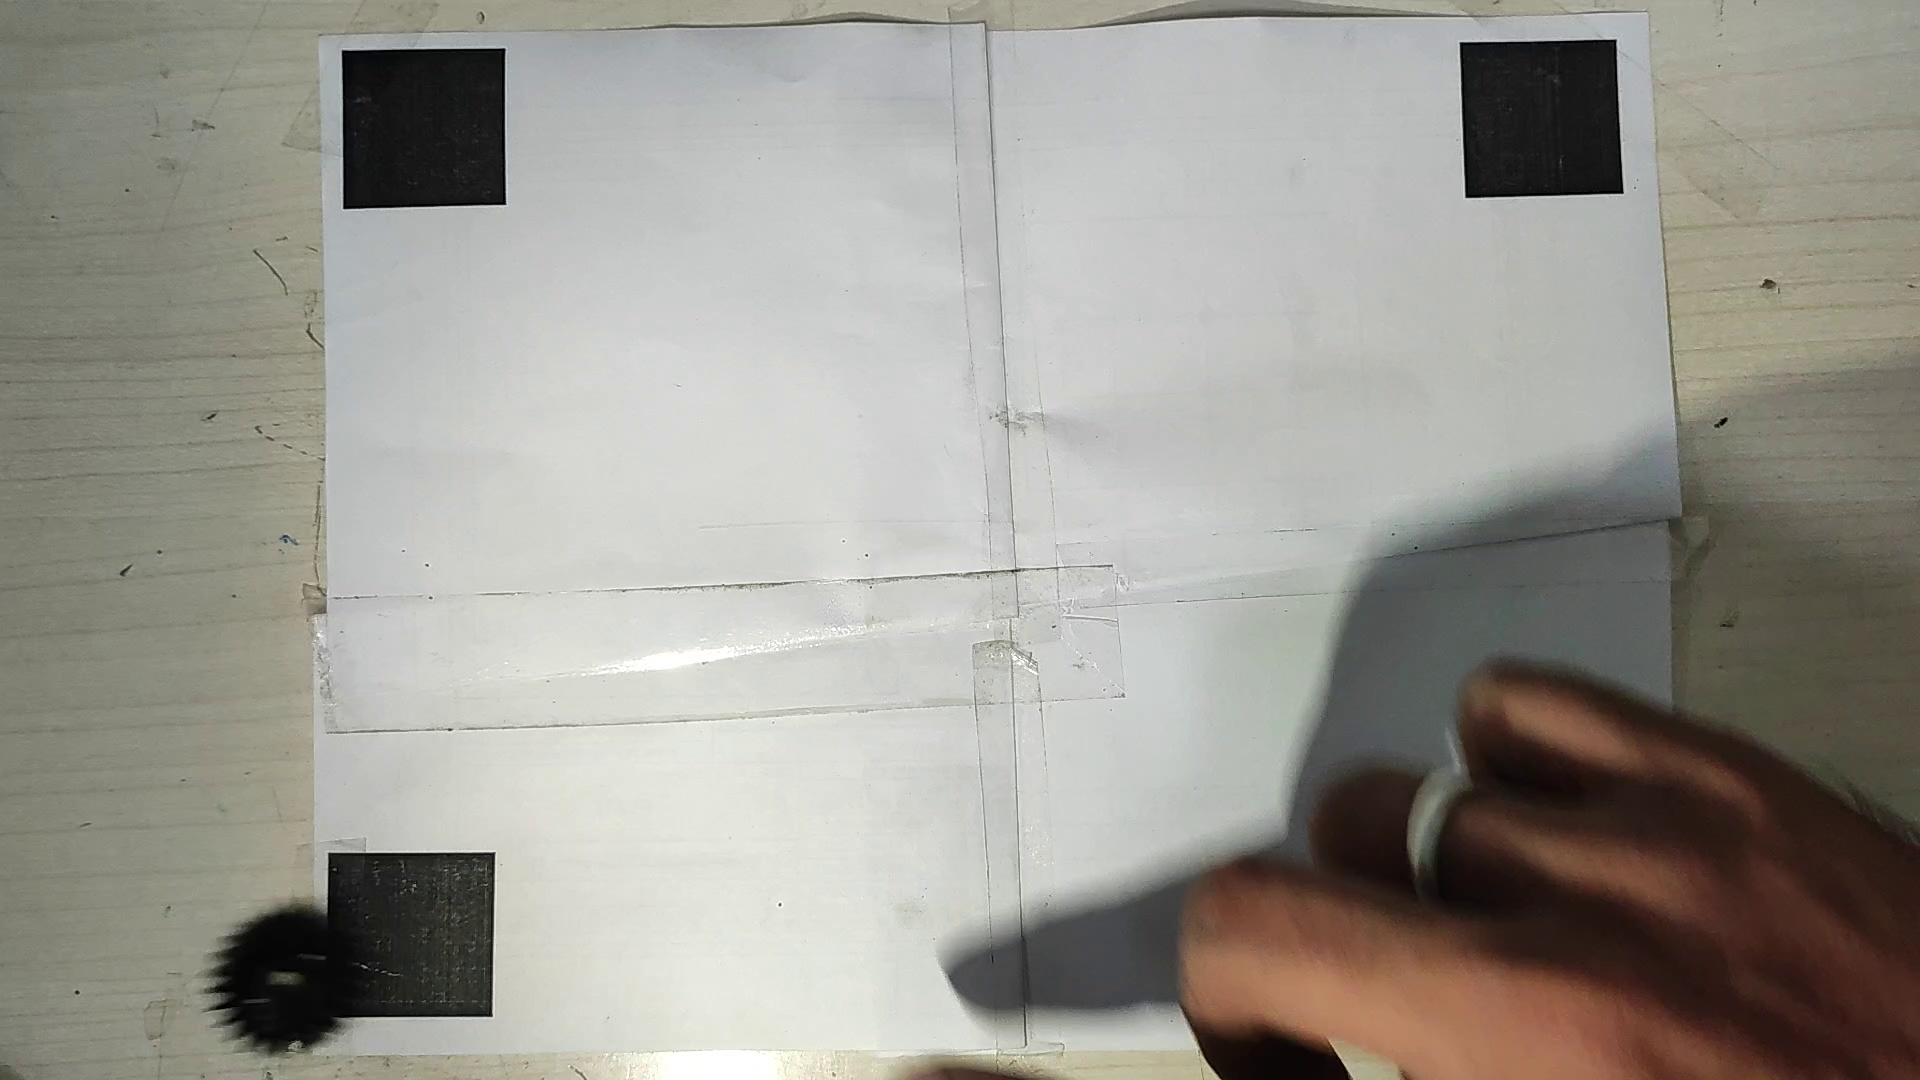Gear: (204, 899, 365, 1055)
